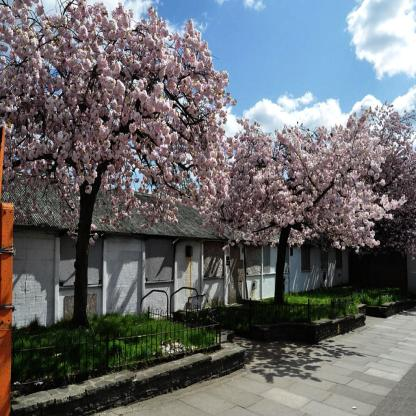YaeSakura: (0, 7, 237, 238), (199, 86, 415, 270)
